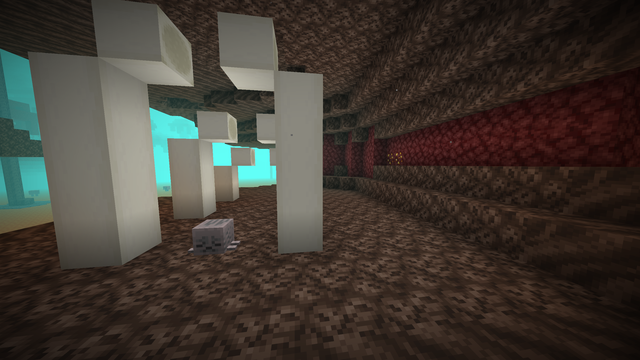nethergold: (385, 151, 403, 165)
